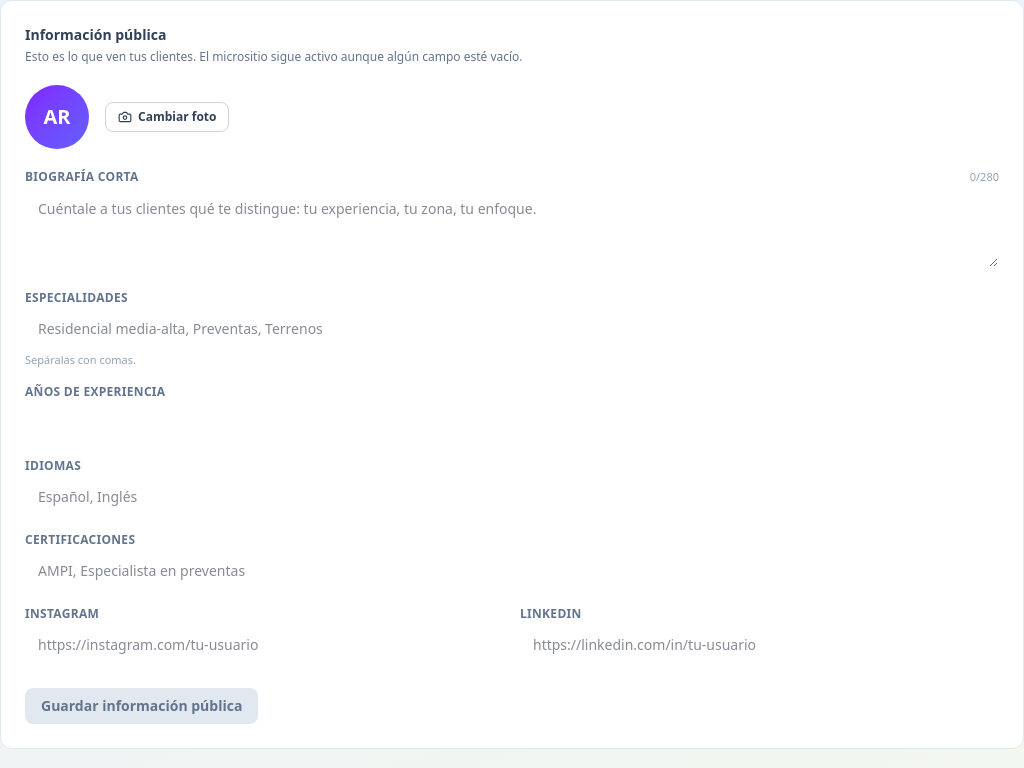
Test: PerfilPersonal: éxito respaldado por backend › rechaza enlaces sociales sin https antes de guardar
Type "javascript:alert(1)" into the field with placeholder "https://instagram.com/tu-usuario" at [264, 645], box x1=25 y1=626 x2=504 y2=664
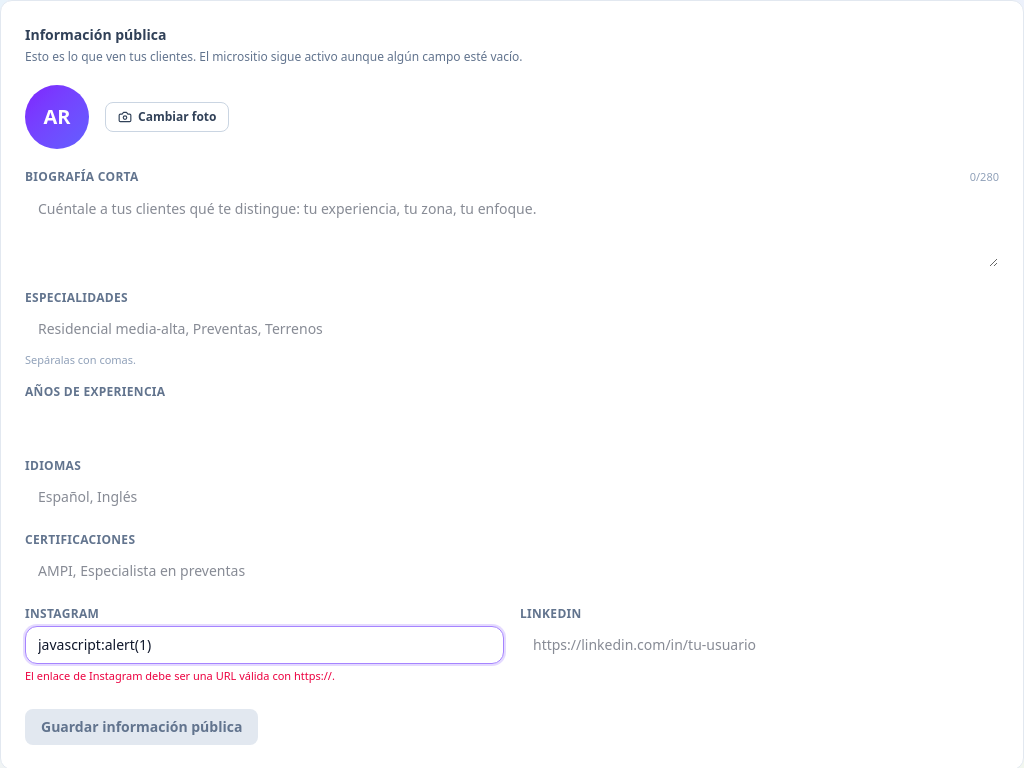
Expected: the button "Guardar información pública" is disabled, x1=25 y1=708 x2=258 y2=744
Now the message shows "Instagram debe ser una URL válida", box x1=25 y1=668 x2=335 y2=683
